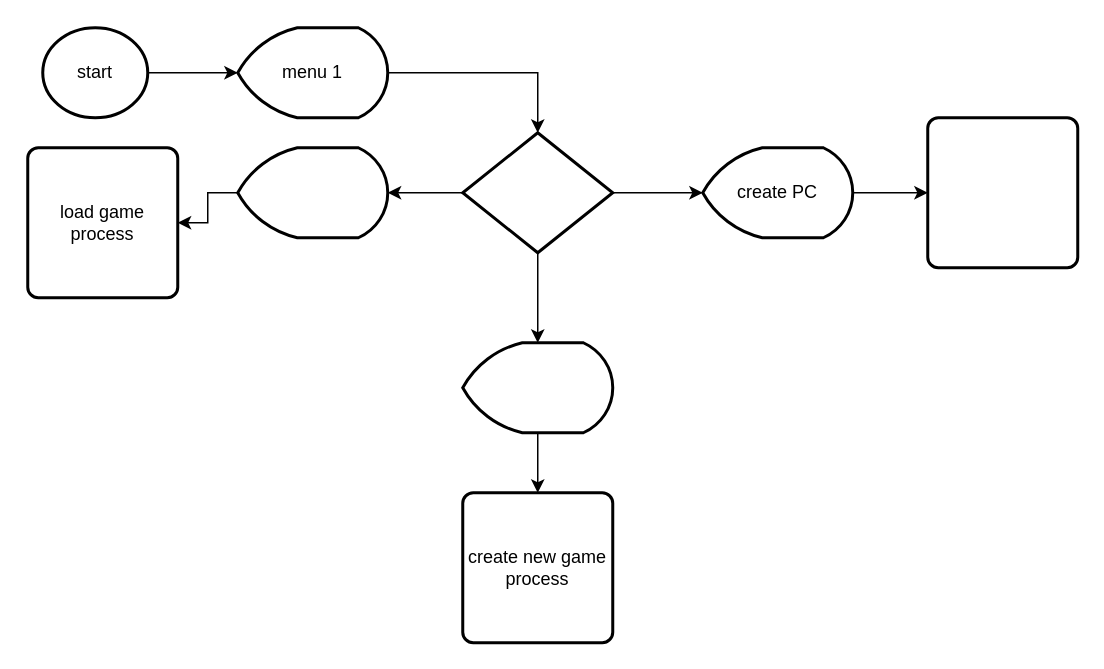
The diagram is 1104 pixels wide and 669 high, and some of its shapes have lost their labels. The centre of each missing label's shape, as x and y in pixels:
"load game" goes at [312,192].
"new game" goes at [537,387].
"PC creation process" goes at [1002,192].
